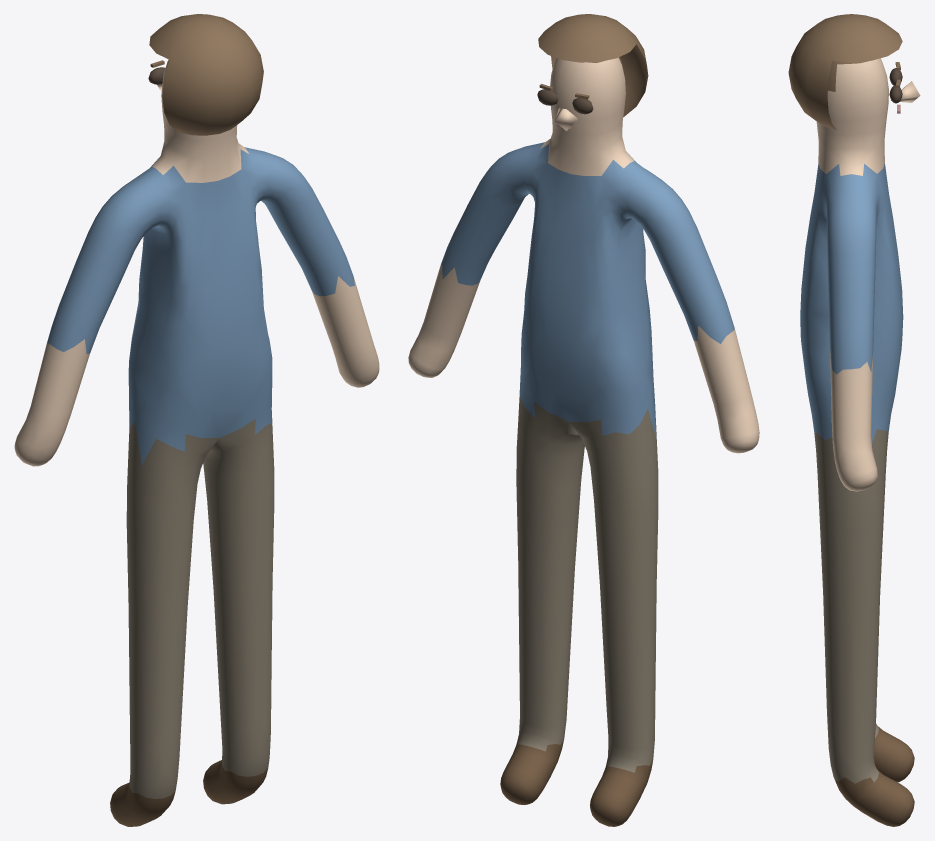
The model's file is proc_char.glb.
The picture shows the model from 3 angles, left to right: view 1: azimuth 30°, elevation 25°; view 2: azimuth 150°, elevation 25°; view 3: azimuth 270°, elevation 25°; orthographic projection. The views are drawn at different scales.
Visible parts, largest first — view 1: cr_char; view 2: cr_char; view 3: cr_char.
Boxes of the visible parts, x1,y1,x2,y2 form: cr_char: [14, 14, 379, 826]; cr_char: [408, 14, 759, 826]; cr_char: [788, 14, 920, 826].
Size of the model in its own units: 0.8494 by 1.83 by 0.2795.
